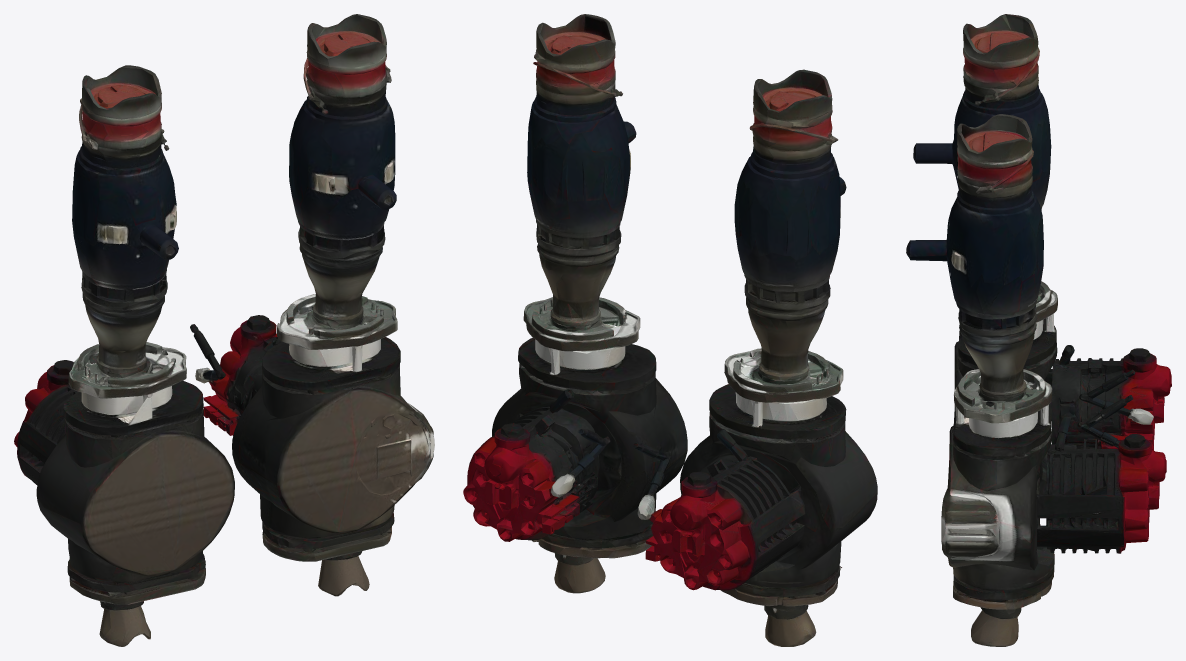
3 renders of one model, left to right at view 1: azimuth 30°, elevation 25°; view 2: azimuth 150°, elevation 25°; view 3: azimuth 270°, elevation 25°, orthographic. The views are drawn at different scales.
Parts seen in each view (by area): view 1: 0; view 2: 0; view 3: 0.
Part boxes in pixels (left/top/right/bottom): 0: left=14, top=14, right=434, bottom=646; 0: left=463, top=14, right=877, bottom=646; 0: left=906, top=14, right=1171, bottom=646.
Bounding box in the file's own units: 0.6196 × 0.9393 × 0.4404.
1 material, 1 textured.
